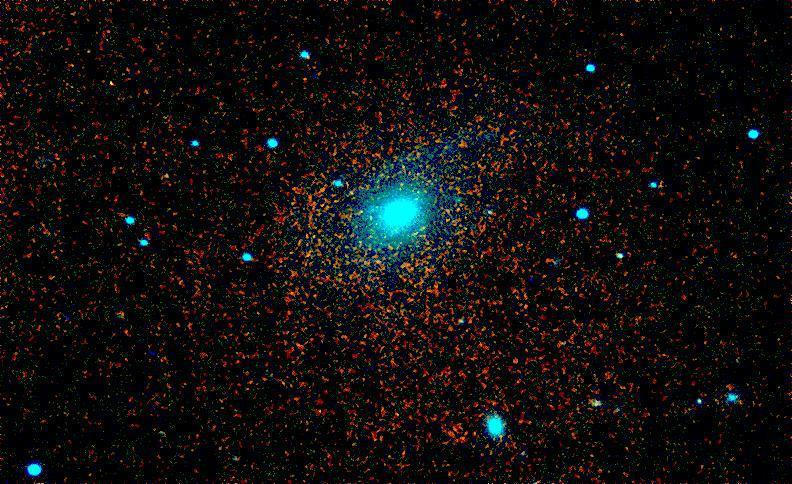star: (498, 344, 528, 374)
